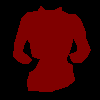felpa: (12, 5, 90, 92)
